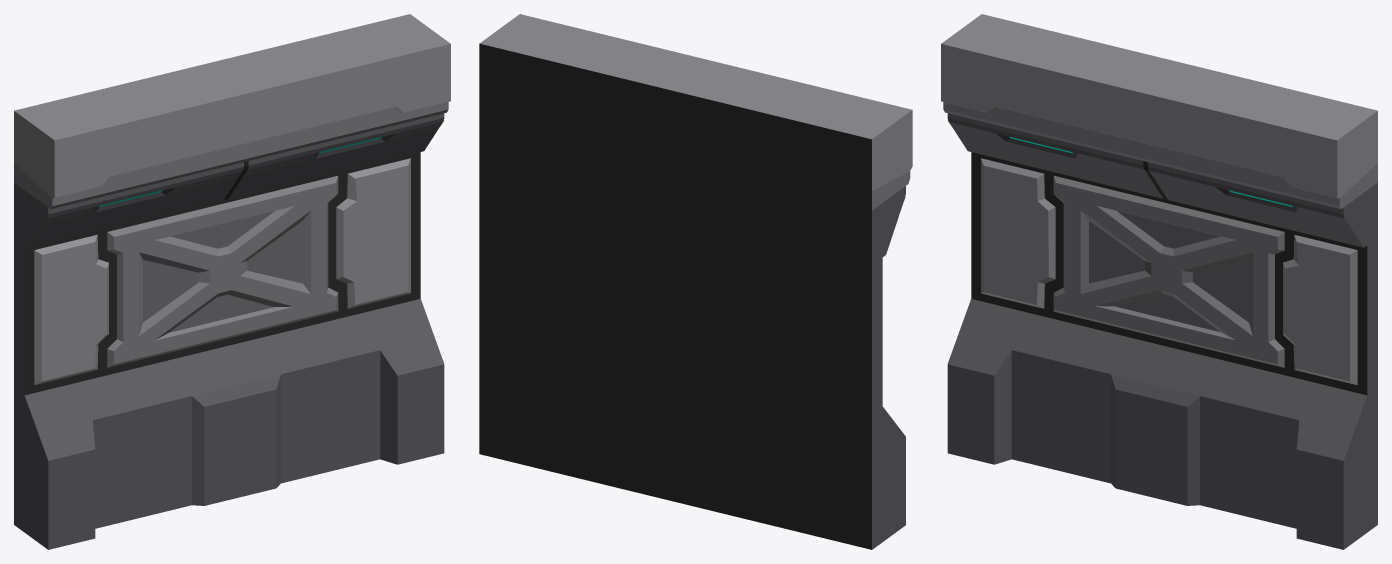
File: SM_Bld_Wall_01.glb
The picture shows the model from 3 angles, left to right: view 1: azimuth 30°, elevation 25°; view 2: azimuth 150°, elevation 25°; view 3: azimuth 330°, elevation 25°; orthographic projection.
Parts seen in each view (by area): view 1: SM_Bld_Wall_01; view 2: SM_Bld_Wall_01; view 3: SM_Bld_Wall_01.
Part boxes in pixels (<box>): SM_Bld_Wall_01: <box>14,14,450,549</box>; SM_Bld_Wall_01: <box>479,14,912,549</box>; SM_Bld_Wall_01: <box>941,14,1377,549</box>.
Bounding box in the file's own units: 5 × 5 × 0.8918.
1 material, 1 textured.
